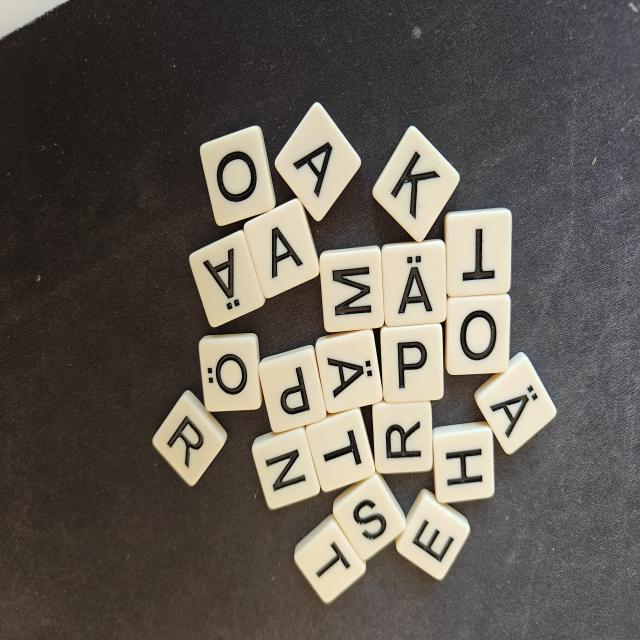a: (275, 102, 361, 221), (244, 199, 319, 298)
a_dot: (474, 352, 556, 454), (190, 231, 265, 327), (381, 239, 447, 326), (315, 329, 383, 413)
e: (396, 489, 470, 580)
h: (432, 421, 494, 503)
k: (372, 126, 460, 241)
m: (319, 245, 384, 332)
n: (252, 427, 320, 510)
o: (200, 125, 275, 225), (445, 294, 510, 375)
o_dot: (199, 333, 262, 412)
p: (259, 345, 326, 432), (381, 324, 443, 402)
r: (152, 390, 227, 486), (372, 401, 433, 473)
s: (333, 472, 405, 561)
t: (294, 514, 366, 604), (444, 208, 512, 297), (305, 408, 375, 491)
